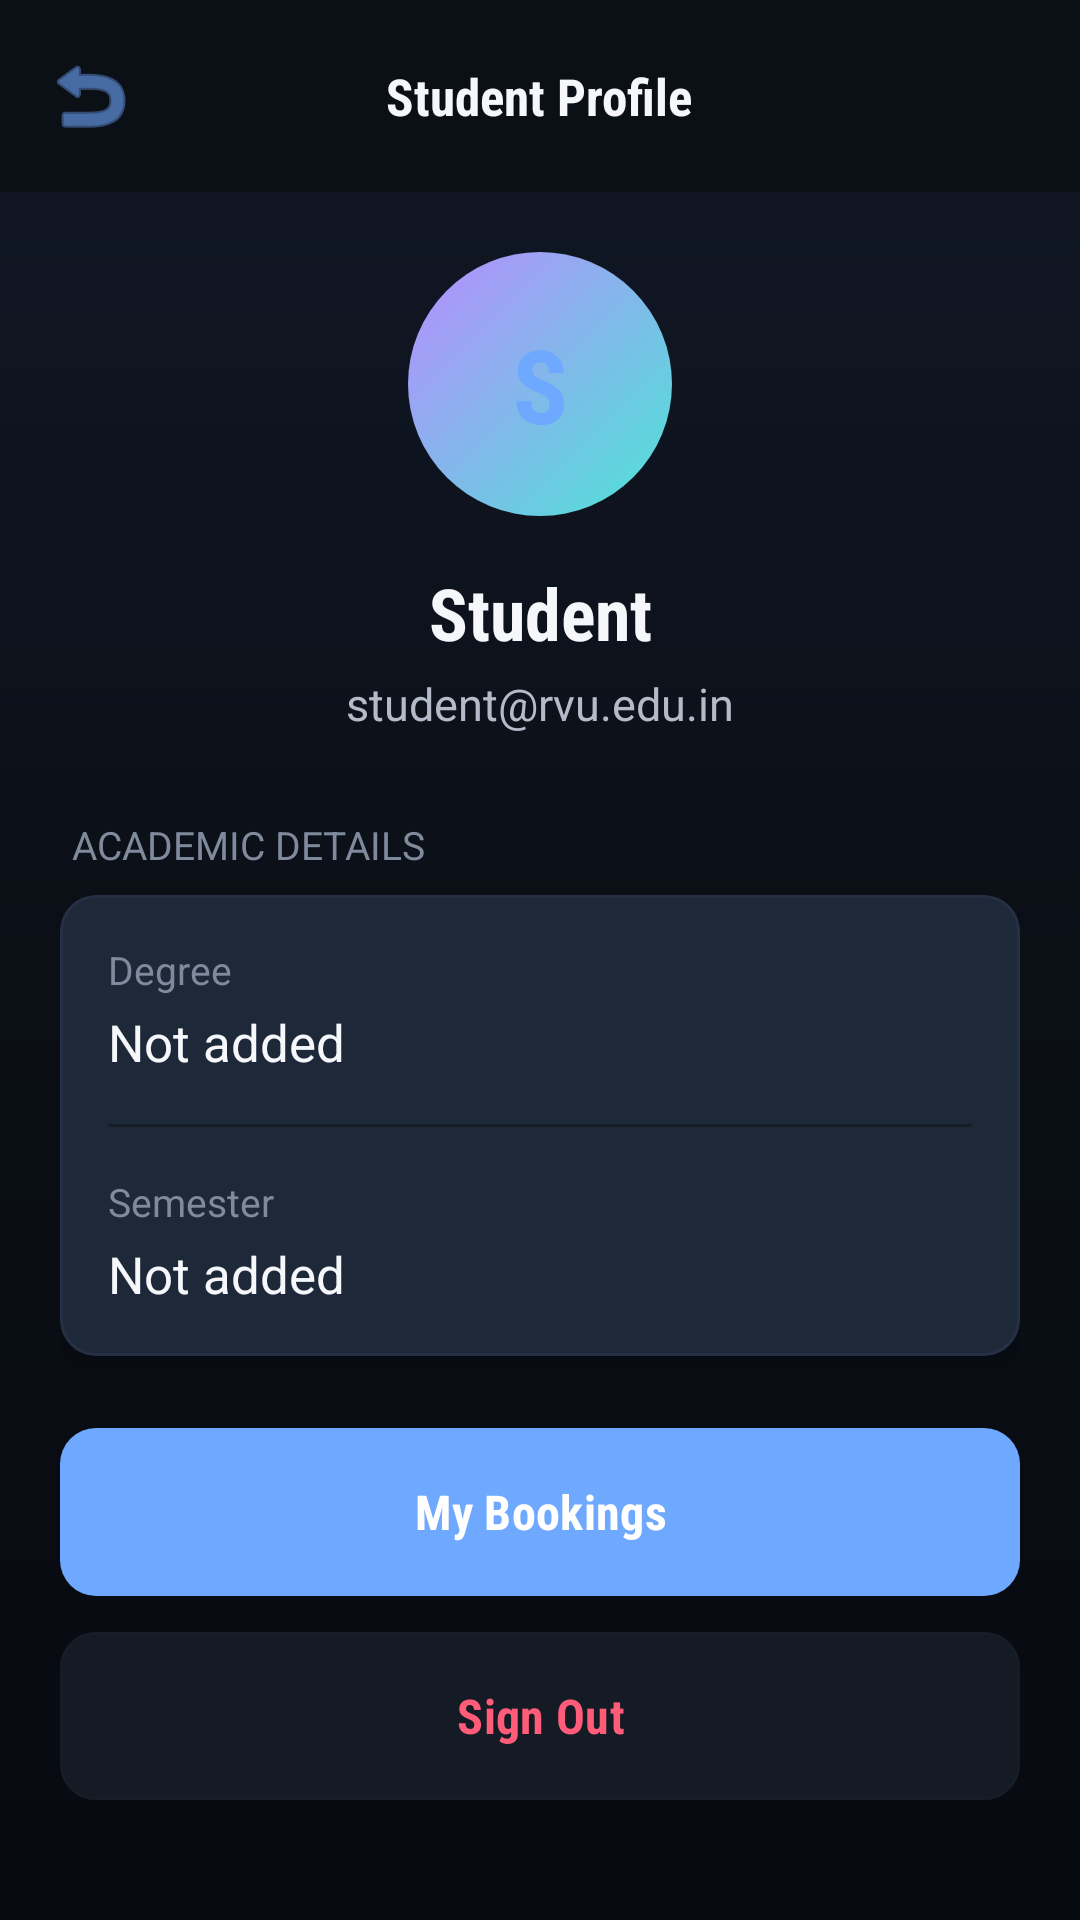

Icons on this 1080px x 1920px Android screen, each with the point to tap as [x,y]:
revert: [91,96]
